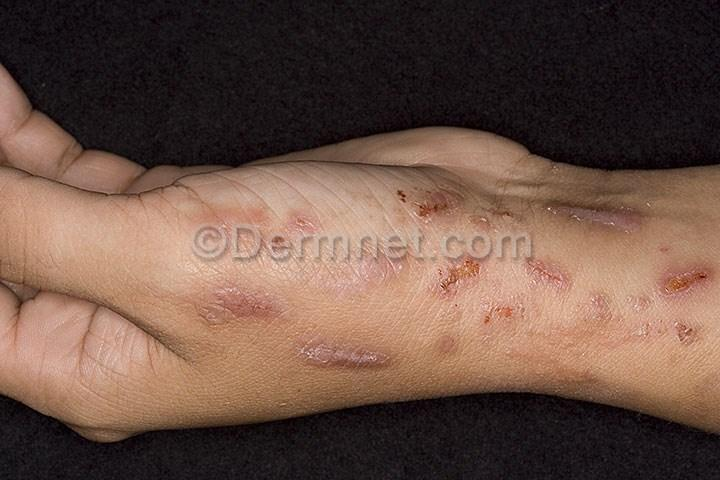Eczema: (192, 198, 352, 255), (491, 336, 616, 393), (186, 269, 302, 330), (303, 245, 424, 298), (538, 187, 663, 238), (293, 341, 409, 376), (388, 184, 475, 223), (589, 286, 659, 330), (424, 253, 490, 298), (521, 248, 586, 292), (649, 258, 720, 298), (463, 202, 546, 232), (477, 294, 536, 332), (669, 317, 711, 349)
